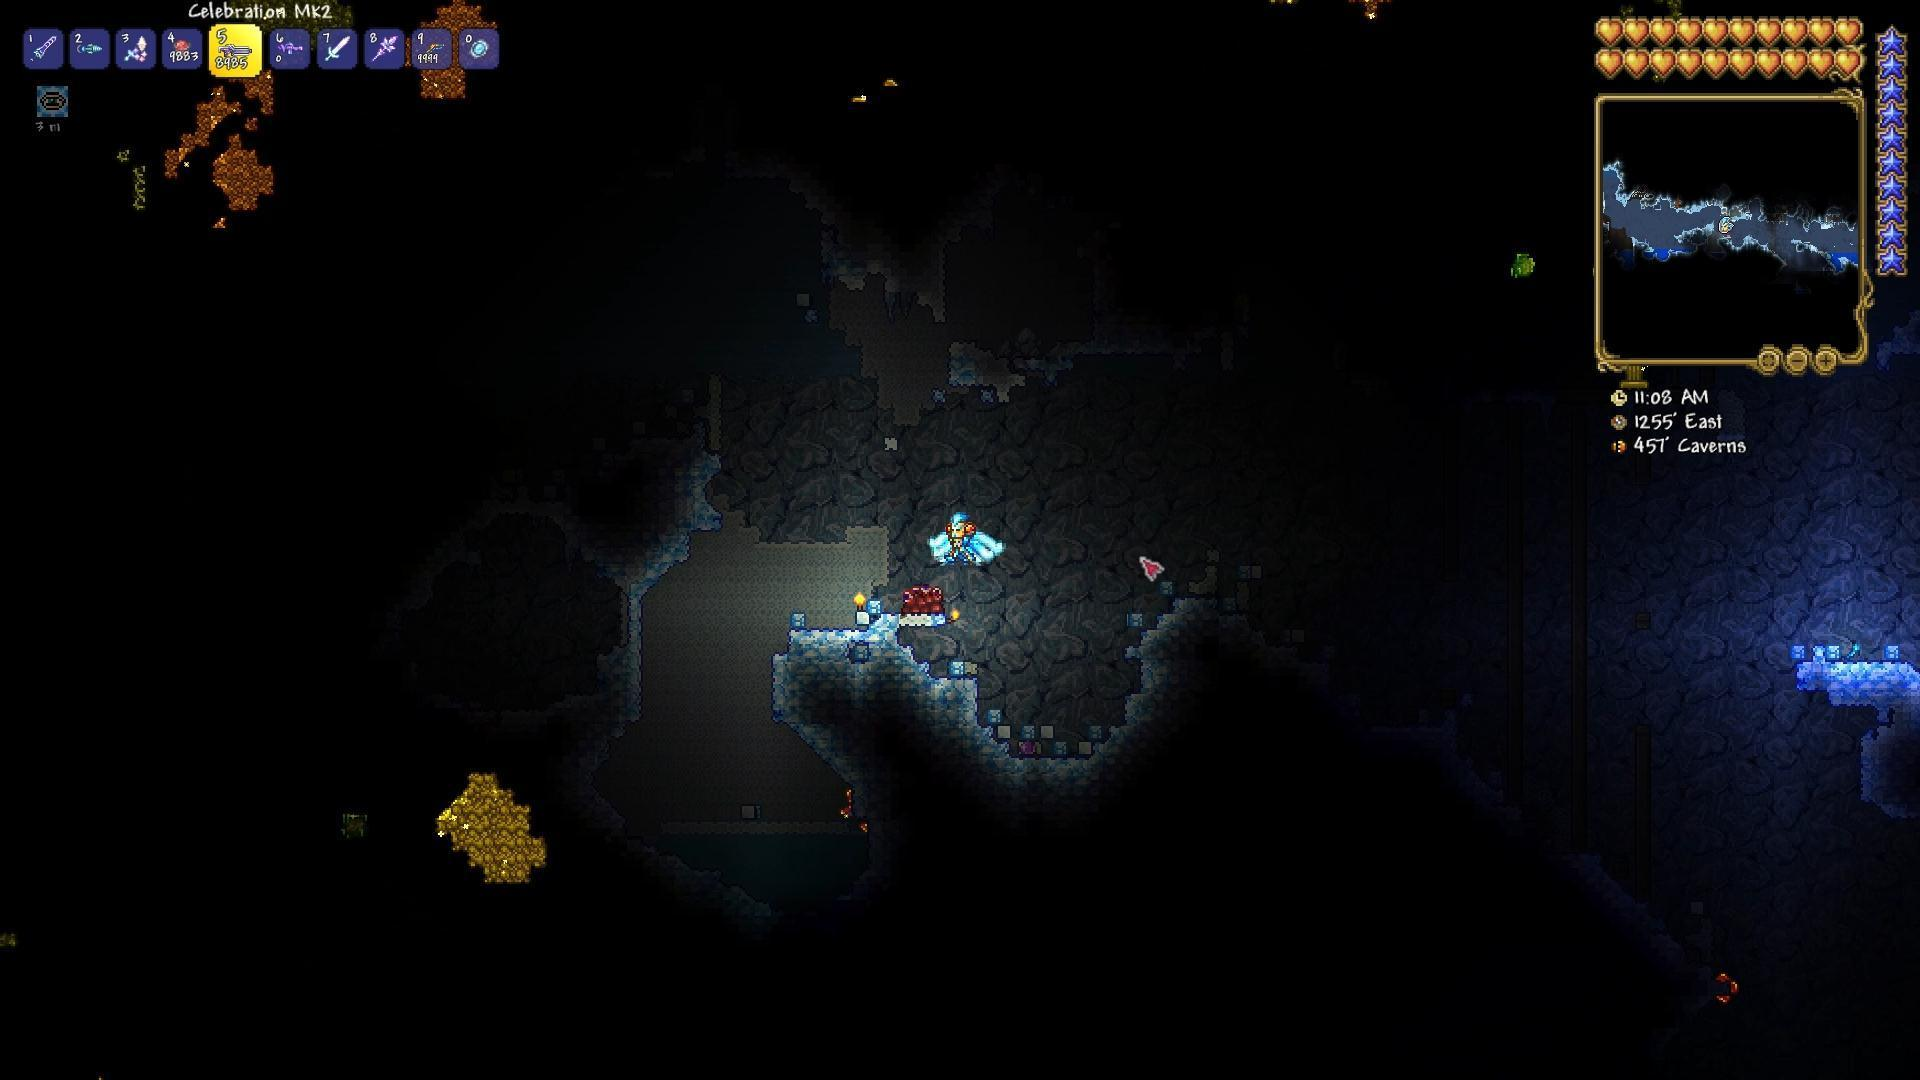altar: (899, 580, 945, 615)
pot: (1509, 243, 1542, 281)
